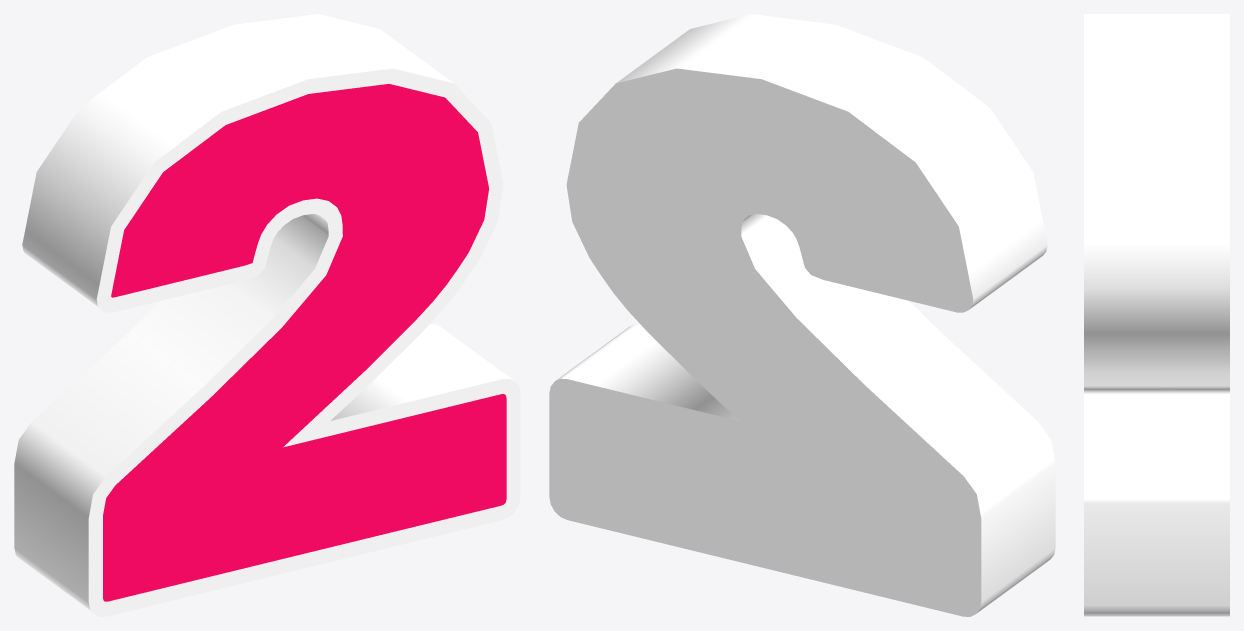
Rendered from number_2.glb.
3 renders of one model, left to right at view 1: azimuth 30°, elevation 25°; view 2: azimuth 150°, elevation 25°; view 3: azimuth 270°, elevation 25°, orthographic. The views are drawn at different scales.
Parts seen in each view (by area): view 1: Nmbr.2; view 2: Nmbr.2; view 3: Nmbr.2.
Part boxes in pixels (bbox=[...]): Nmbr.2: bbox=[14, 14, 520, 616]; Nmbr.2: bbox=[549, 14, 1055, 616]; Nmbr.2: bbox=[1084, 14, 1229, 616].
Size of the model in its own units: 1.02 by 1.1 by 0.3052.
1 material, 1 textured.
